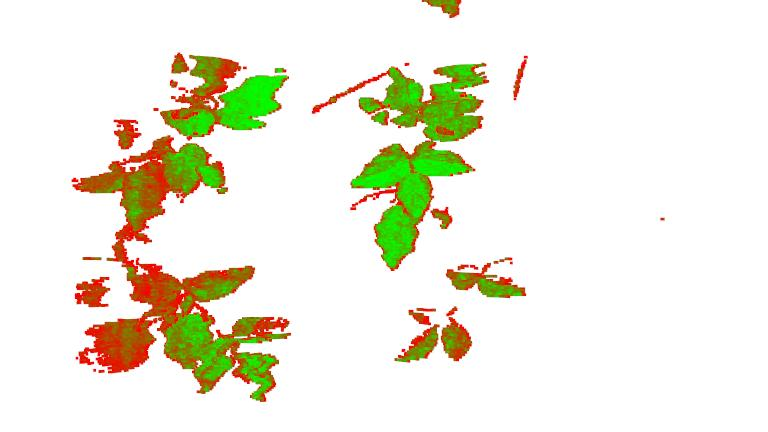mungbean: (63, 233, 294, 404), (71, 54, 290, 232), (353, 53, 493, 271), (397, 261, 531, 370)
